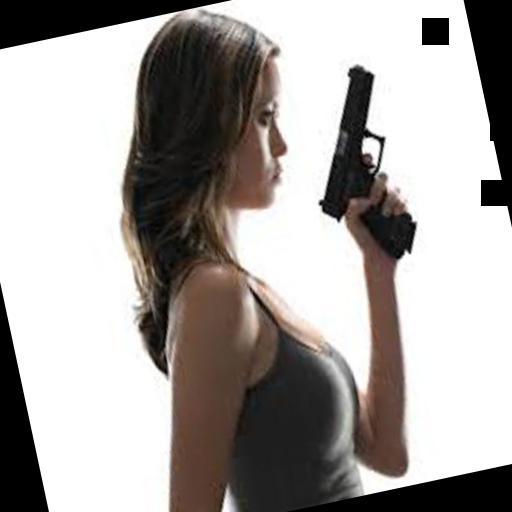Handgun: (292, 54, 425, 275)
